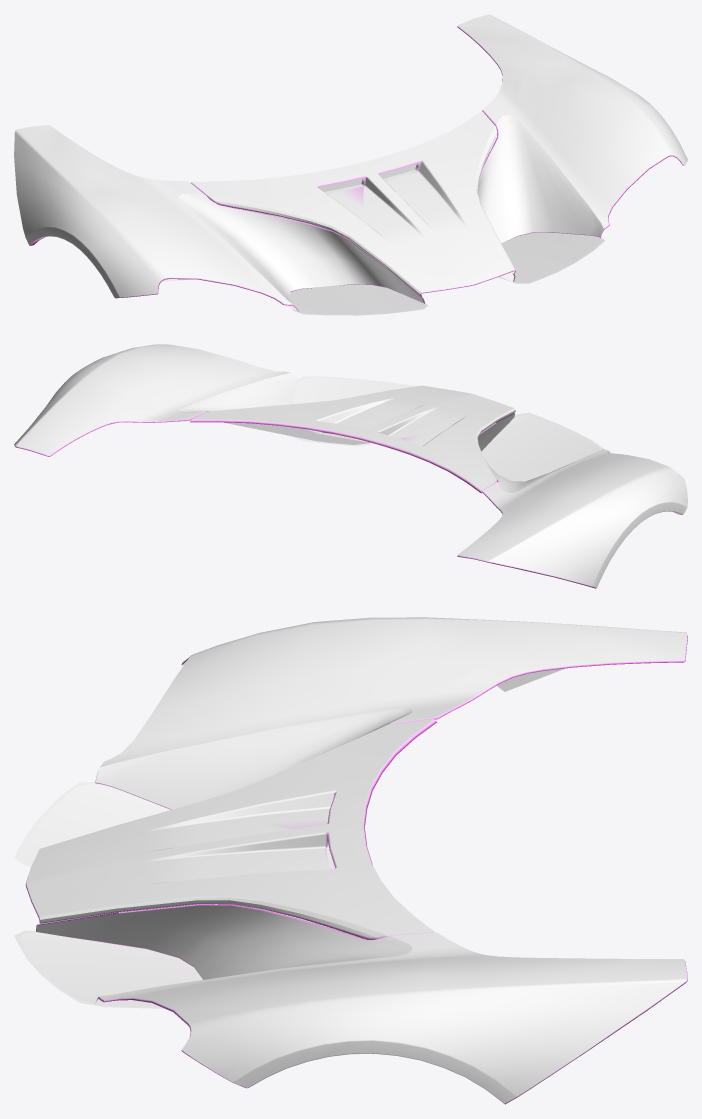
File: Car_Ford_GT_2017_Hood_SetF.fbx
3 renders of one model, top to bottom at view 1: azimuth 30°, elevation 25°; view 2: azimuth 150°, elevation 25°; view 3: azimuth 270°, elevation 25°, orthographic. The views are drawn at different scales.
Parts seen in each view (by area): view 1: Hood 6; view 2: Hood 6; view 3: Hood 6.
Part boxes in pixels (box(x1,y1,x2,y2)): Hood 6: box(14, 14, 687, 315); Hood 6: box(14, 344, 687, 588); Hood 6: box(14, 617, 687, 1104).
Bounding box in the file's own units: 1.96 × 0.2586 × 1.33.
